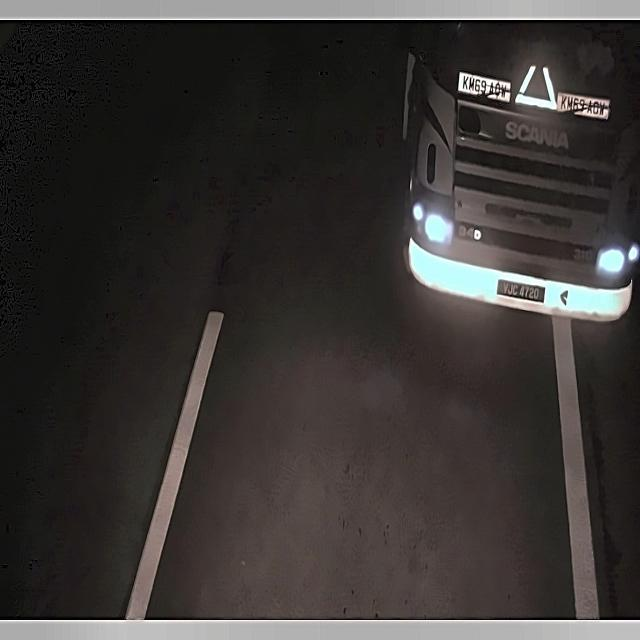car: (496, 275, 552, 310)
